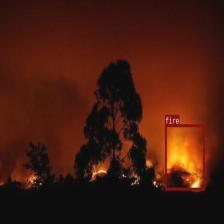fire: (165, 124, 204, 190)
